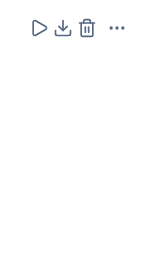
Test: WorkflowRowActions › admin override exposes full workflow actions even when role is viewer
Click the button named "More actions for Nightly sync" at (117, 28), box top-left (101, 12), bottom-right (133, 44)
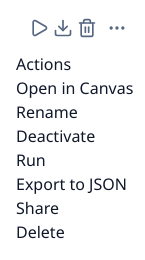
expect the menu item "Rename" is shown: met, box top-left (16, 101), bottom-right (78, 123)
expect the menu item "Share" is shown: met, box top-left (16, 197), bottom-right (59, 219)
expect the menu item "Delete" is shown: met, box top-left (16, 221), bottom-right (65, 243)
